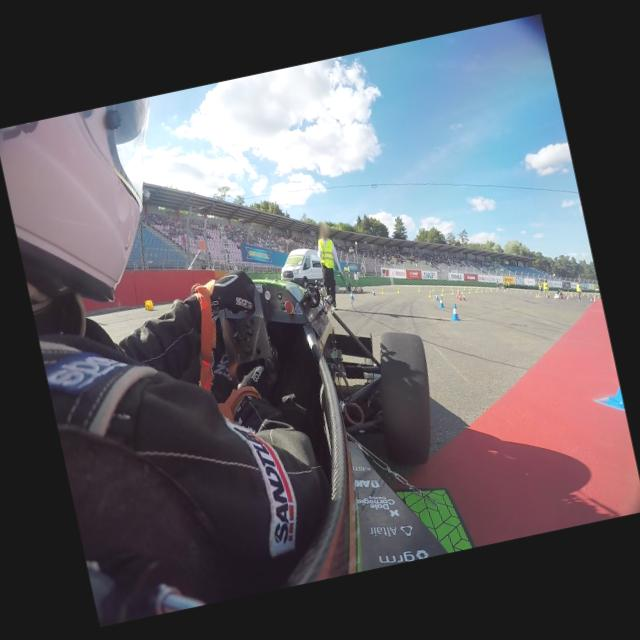blue_cone: (599, 360, 624, 412), (448, 302, 460, 322), (437, 296, 444, 308), (348, 289, 354, 300), (370, 288, 376, 296), (434, 292, 438, 300)
orange_cone: (456, 293, 461, 300), (462, 294, 466, 300), (456, 288, 460, 294)
yellow_cone: (144, 298, 154, 311), (427, 290, 432, 298), (380, 288, 384, 294), (396, 287, 400, 293), (534, 294, 538, 298), (451, 290, 454, 294), (441, 291, 444, 295), (529, 290, 532, 294), (461, 289, 464, 293), (418, 287, 420, 292), (432, 287, 434, 291), (468, 289, 470, 293), (476, 288, 478, 292), (449, 286, 451, 290), (516, 289, 518, 293), (524, 290, 526, 294), (442, 287, 444, 291), (480, 288, 482, 292), (485, 288, 487, 292), (496, 288, 498, 292), (503, 289, 505, 292), (491, 289, 492, 292), (490, 288, 491, 290), (506, 288, 506, 291)
